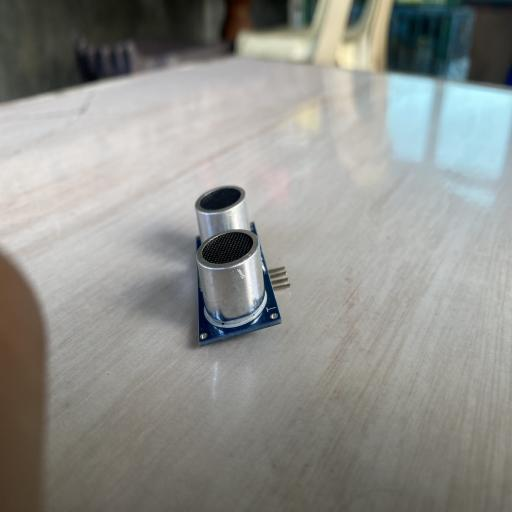Ultrasonic Sensor: (194, 184, 291, 347)
